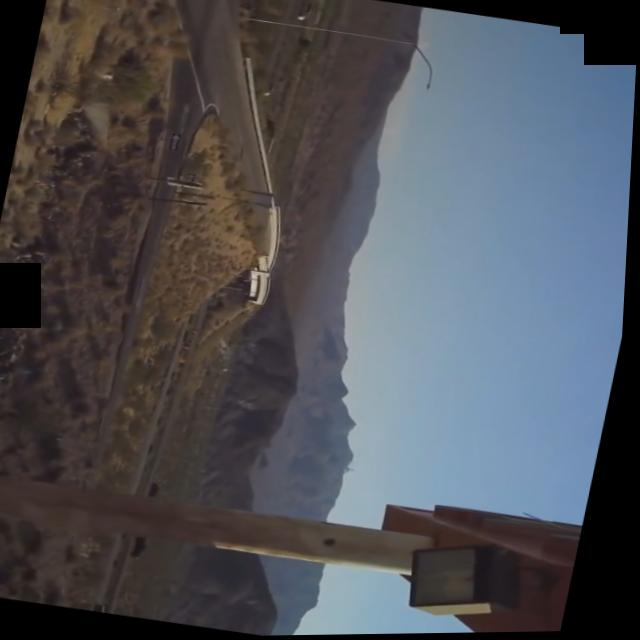Building: (0, 420, 594, 639)
Pole: (236, 11, 445, 94), (154, 0, 466, 25)
